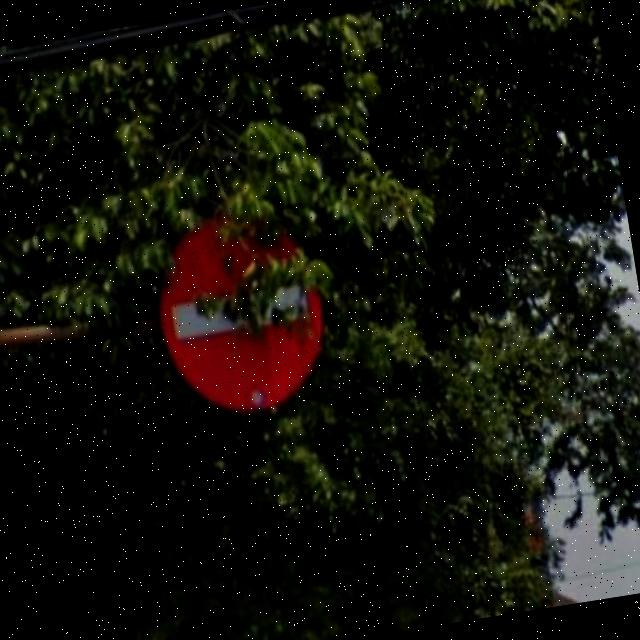Zakaz wjazdu: (150, 207, 333, 421)
